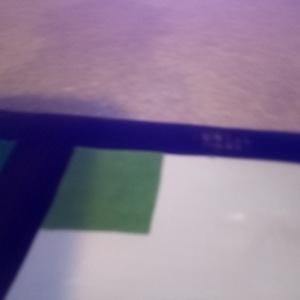bottom_right: (18, 120, 163, 233)
